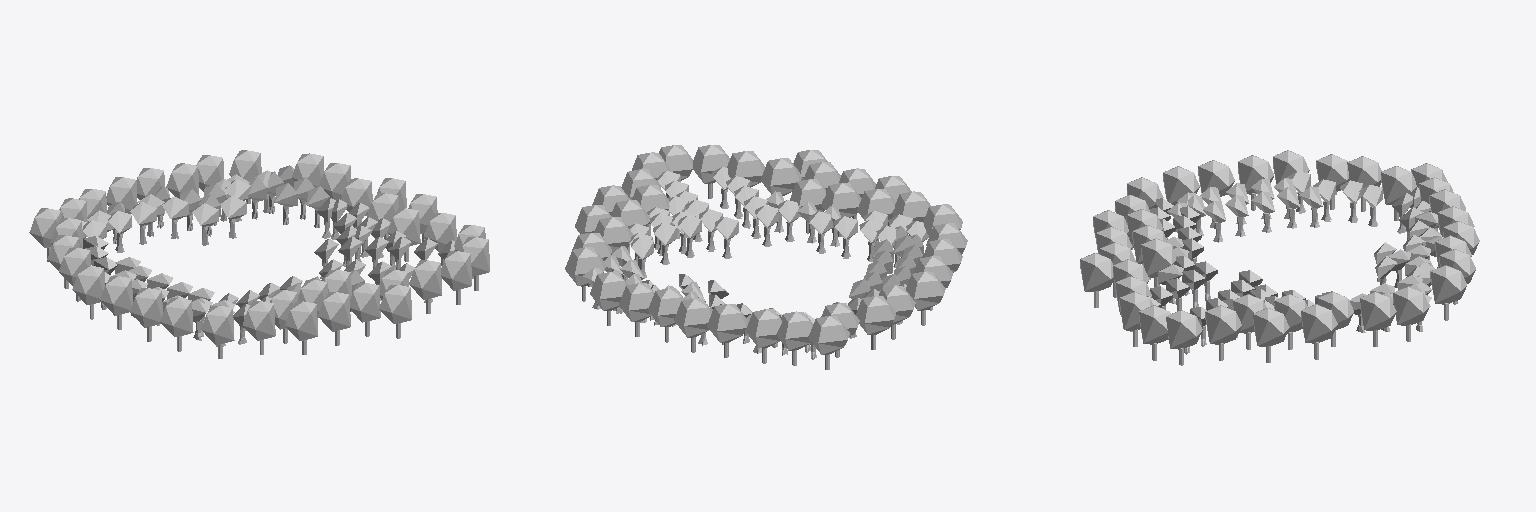
The model's file is optskog.obj.
3 renders of one model, left to right at view 1: azimuth 30°, elevation 25°; view 2: azimuth 150°, elevation 25°; view 3: azimuth 270°, elevation 25°, orthographic.
Visible parts, largest first — view 1: big_tree; view 2: big_tree; view 3: big_tree.
Part boxes in pixels (bbox=[...]): big_tree: bbox=[29, 150, 489, 344]; big_tree: bbox=[565, 145, 967, 354]; big_tree: bbox=[1080, 150, 1479, 349].
Bounding box in the file's own units: 1326 × 189 × 1277.